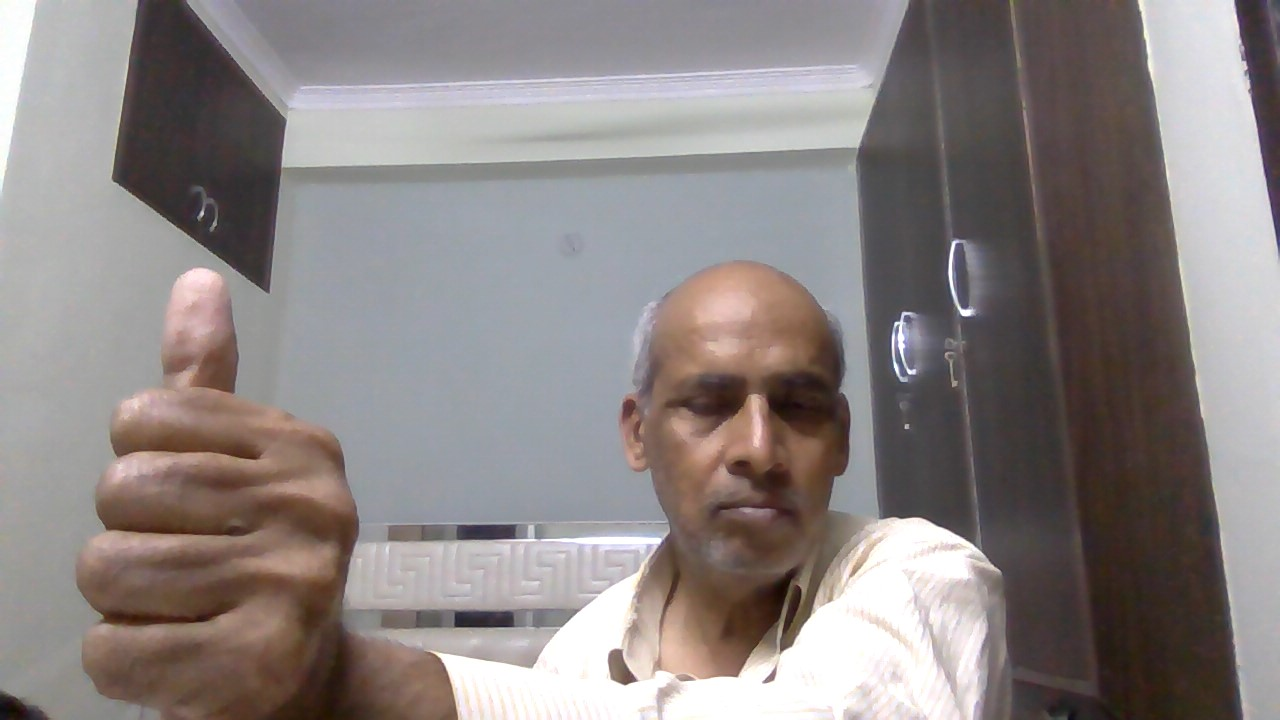Save: (63, 252, 375, 720)
